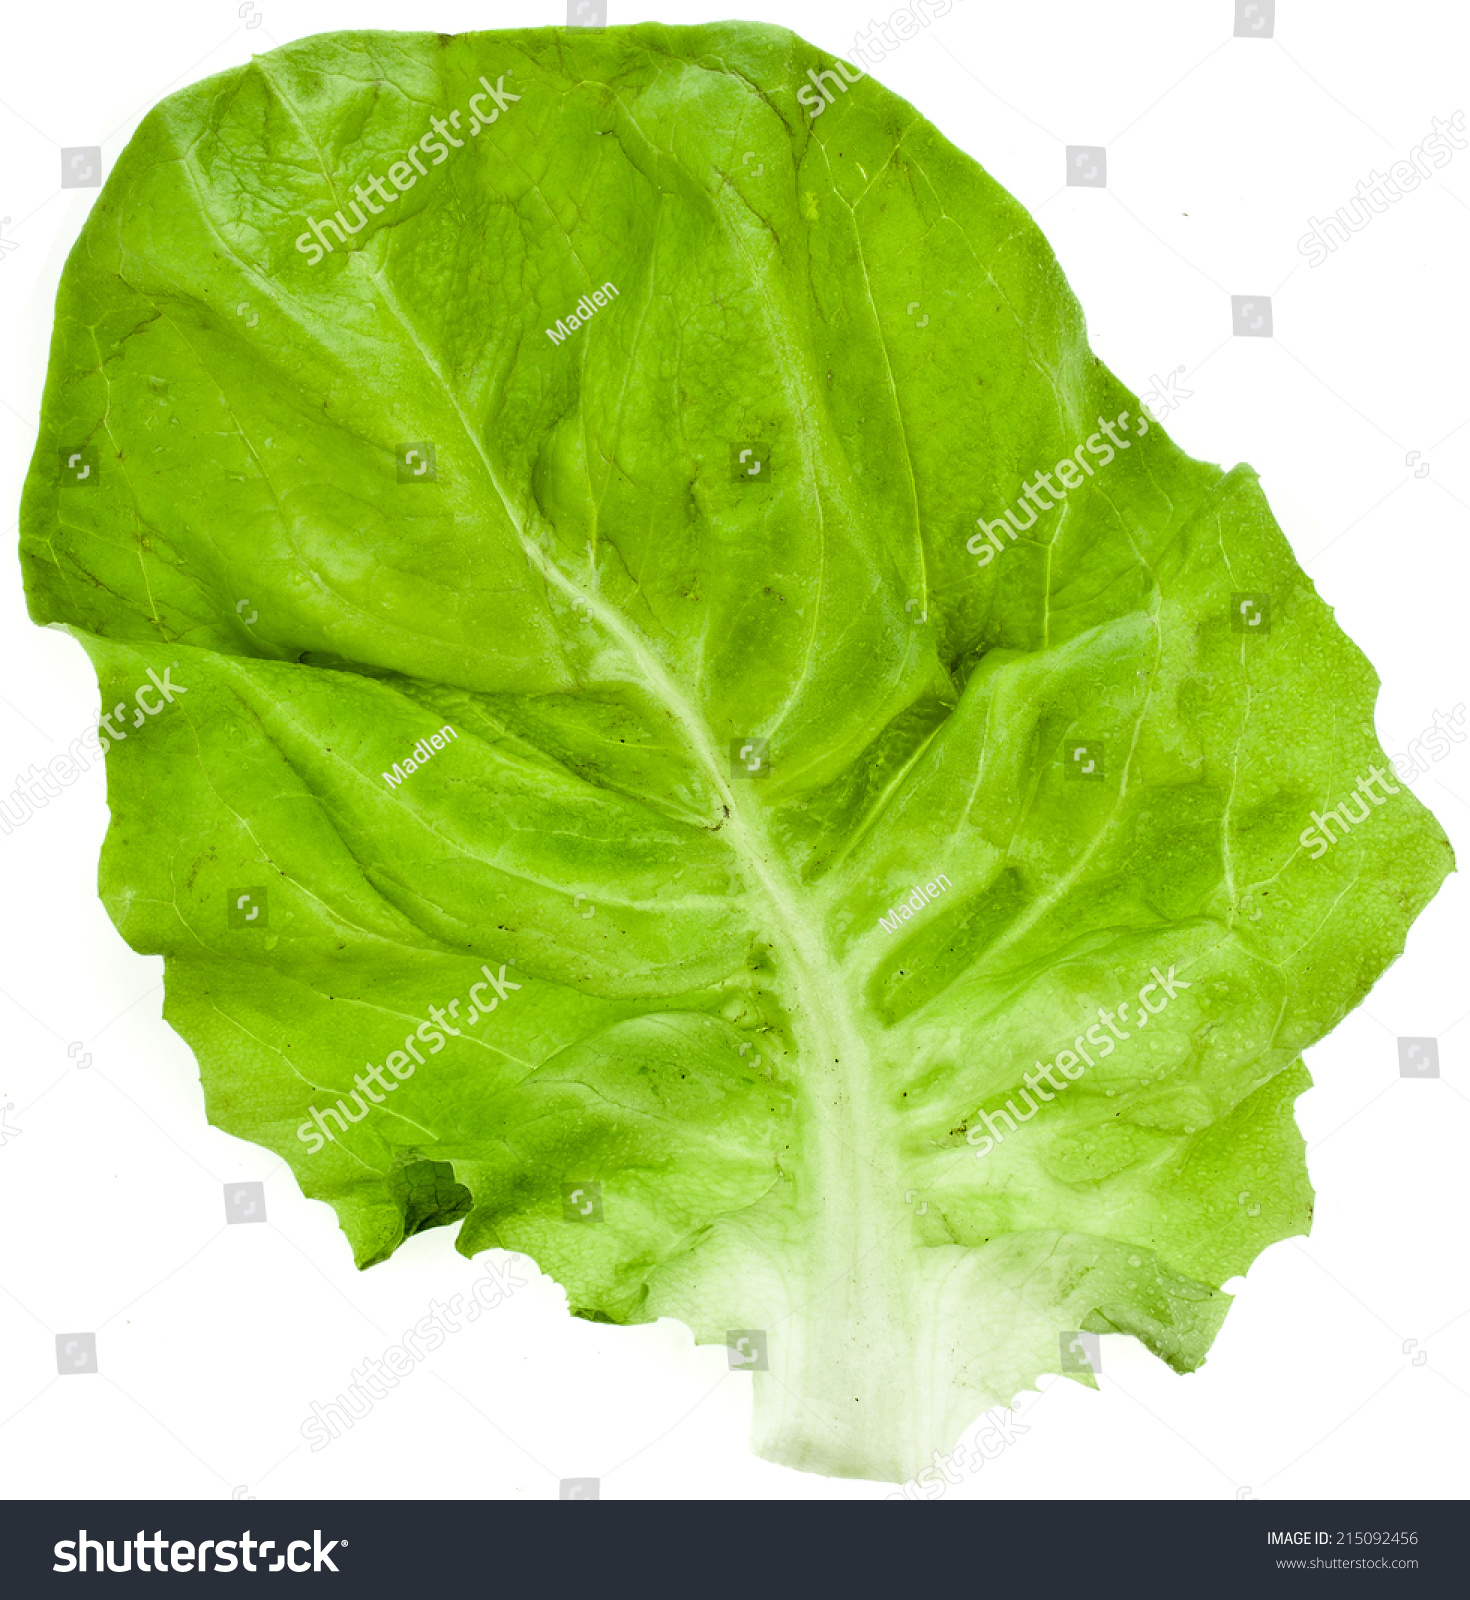lettuce: (43, 50, 1370, 1339)
